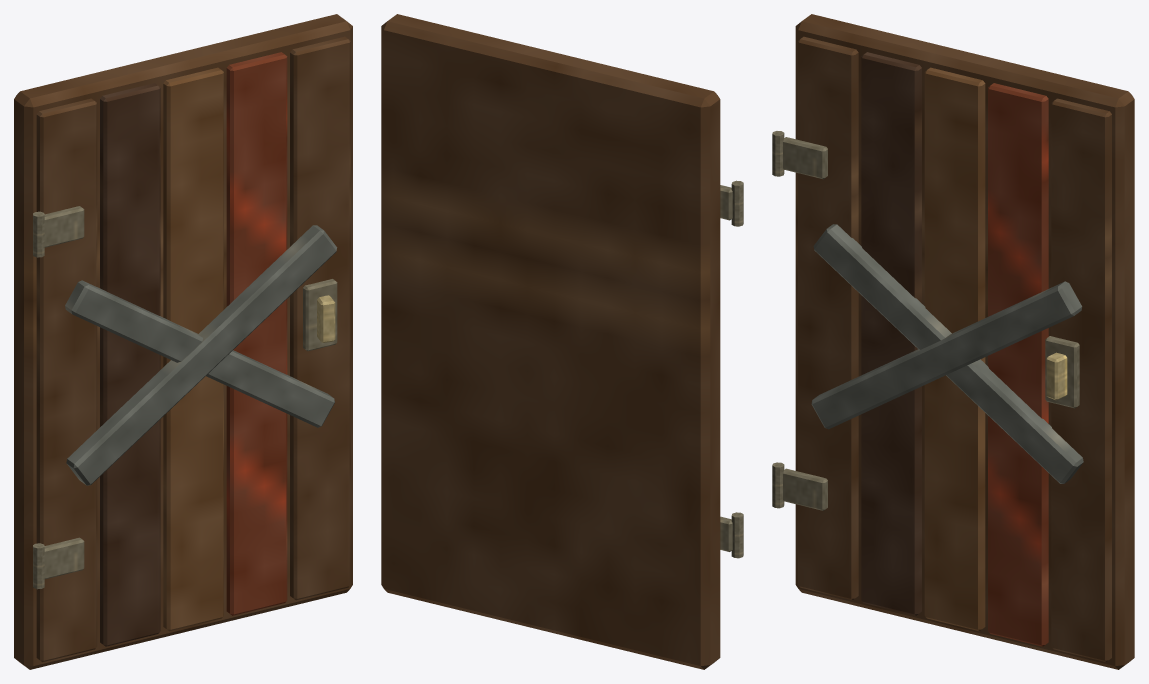
Rendered from SH_POC_ConcealedDoor.fbx.
The picture shows the model from 3 angles, left to right: view 1: azimuth 30°, elevation 25°; view 2: azimuth 150°, elevation 25°; view 3: azimuth 330°, elevation 25°; orthographic projection.
Visible parts, largest first — view 1: SH_POC_ConcealedDoor; view 2: SH_POC_ConcealedDoor; view 3: SH_POC_ConcealedDoor.
Part boxes in pixels (bbox=[...]): SH_POC_ConcealedDoor: bbox=[14, 14, 352, 669]; SH_POC_ConcealedDoor: bbox=[381, 14, 743, 669]; SH_POC_ConcealedDoor: bbox=[772, 14, 1134, 669].
Bounding box in the file's own units: 1.38 × 2.24 × 0.2758.
1 material, 1 textured.
